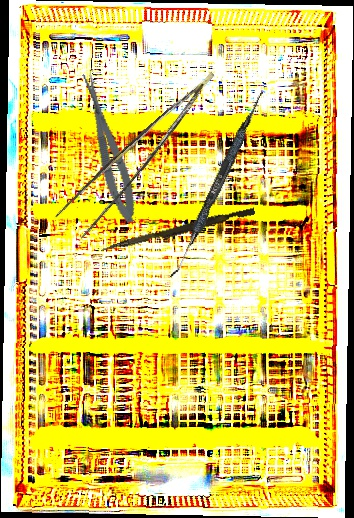Micro Scissor: (77, 69, 142, 226)
Pusher: (101, 203, 256, 258)
Spatula Surgical: (169, 88, 266, 282)
Tissue Forceps: (48, 71, 239, 244)
